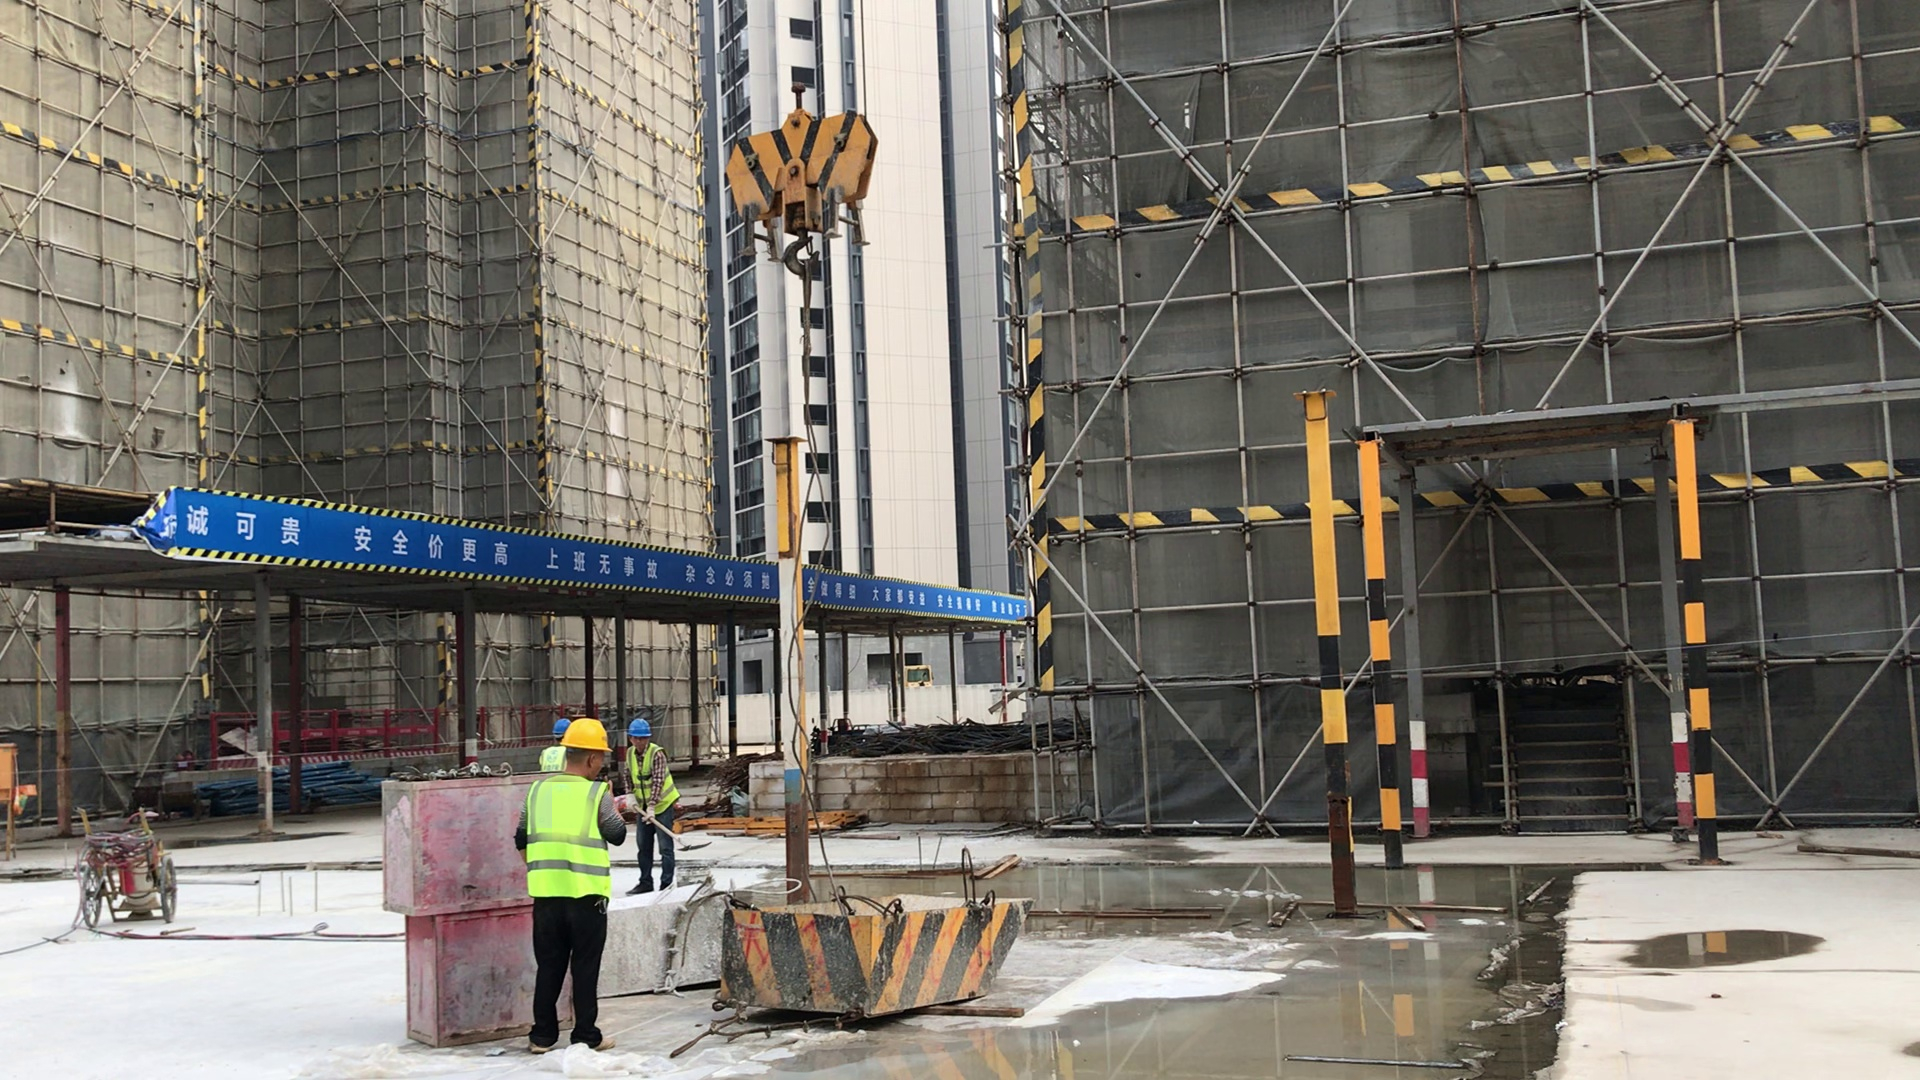fence: (206, 707, 547, 779)
handcart: (75, 806, 177, 927)
helmet: (560, 721, 610, 754), (626, 718, 651, 737), (553, 717, 568, 735)
hook: (727, 80, 877, 281)
hopper: (719, 893, 1032, 1016), (575, 864, 762, 1001)
person: (515, 719, 627, 1051), (624, 718, 678, 895), (537, 719, 569, 773)
slogan: (159, 485, 1027, 618)
vest: (528, 772, 609, 900), (626, 743, 677, 818), (540, 746, 565, 774)
